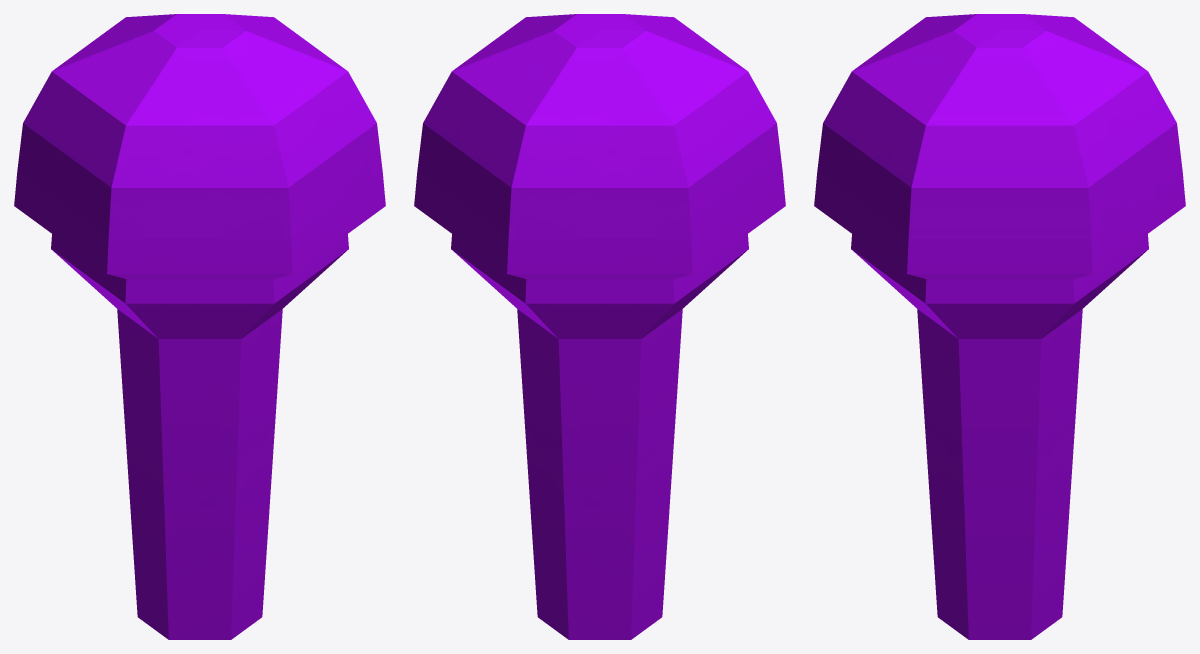
The model's file is Lightstick.fbx.
The picture shows the model from 3 angles, left to right: view 1: azimuth 30°, elevation 25°; view 2: azimuth 150°, elevation 25°; view 3: azimuth 270°, elevation 25°; orthographic projection.
Visible parts, largest first — view 1: Lightstick.001; view 2: Lightstick.001; view 3: Lightstick.001.
Part boxes in pixels (x1,y1,x2,y2): Lightstick.001: [14, 14, 385, 639]; Lightstick.001: [414, 14, 785, 639]; Lightstick.001: [814, 14, 1185, 639].
Bounding box in the file's own units: 1.89 × 3.84 × 2.19.
1 material, 1 textured.
